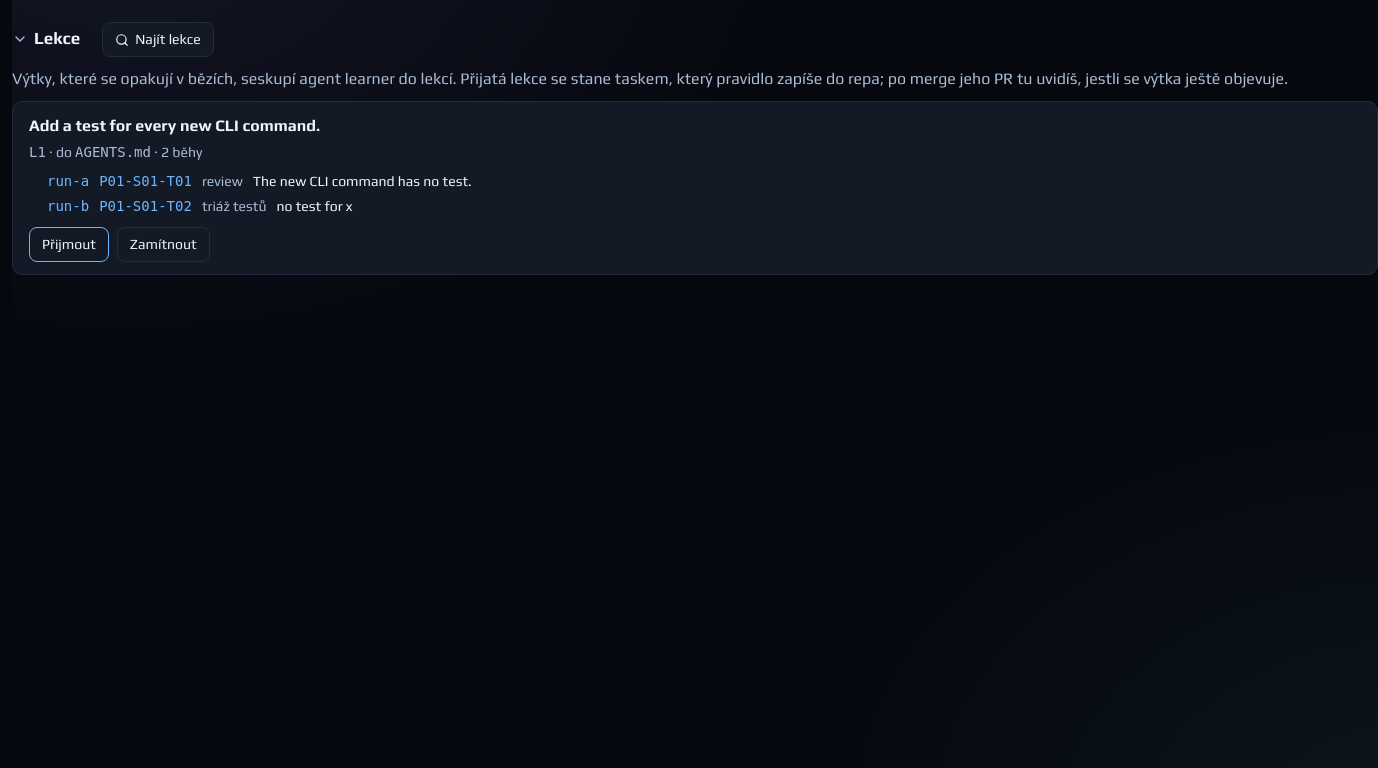
it: LessonsSection › dismisses a lesson
Click the button with test id "lesson-dismiss": (163, 244) [117, 227, 210, 262]
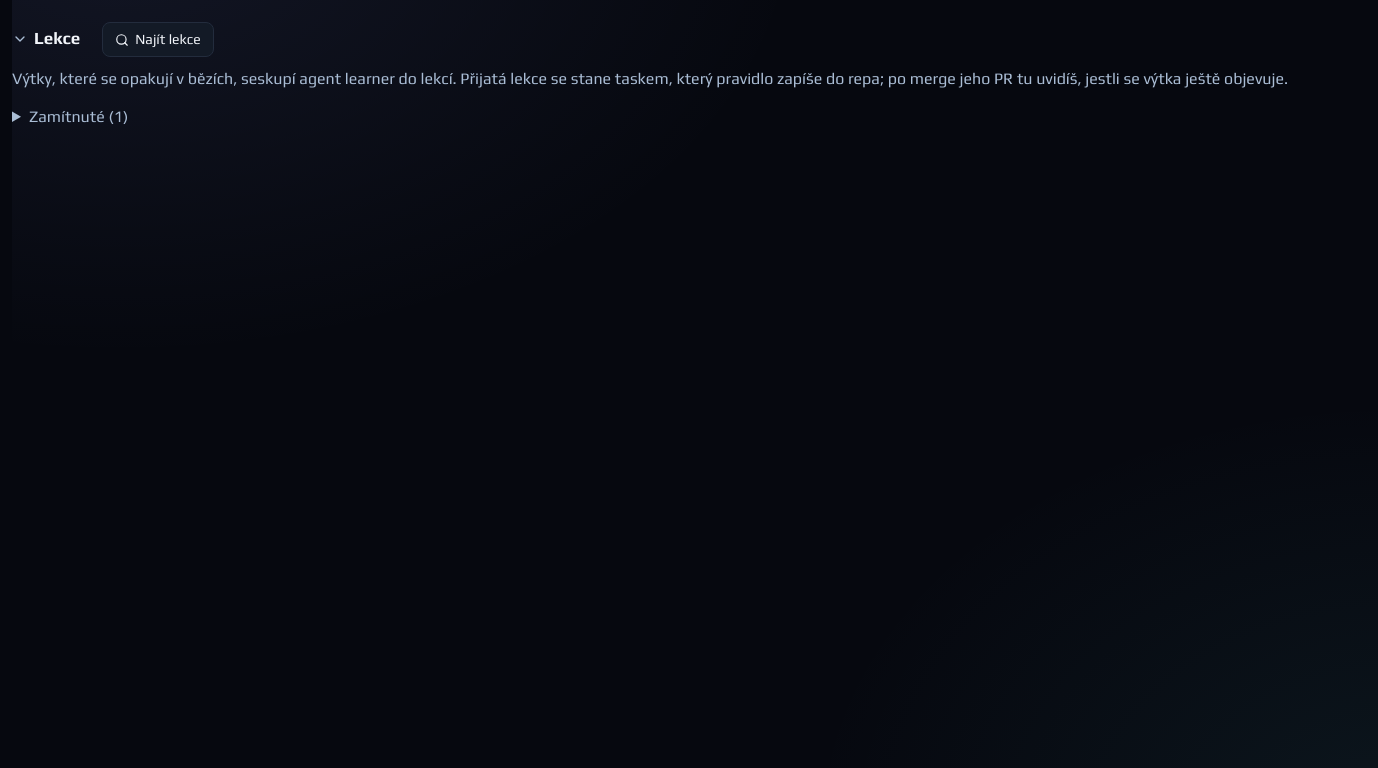
Expected: the element with test id "lessons-rejected" reads "Zamítnuté (1)", [29, 107, 128, 126]
